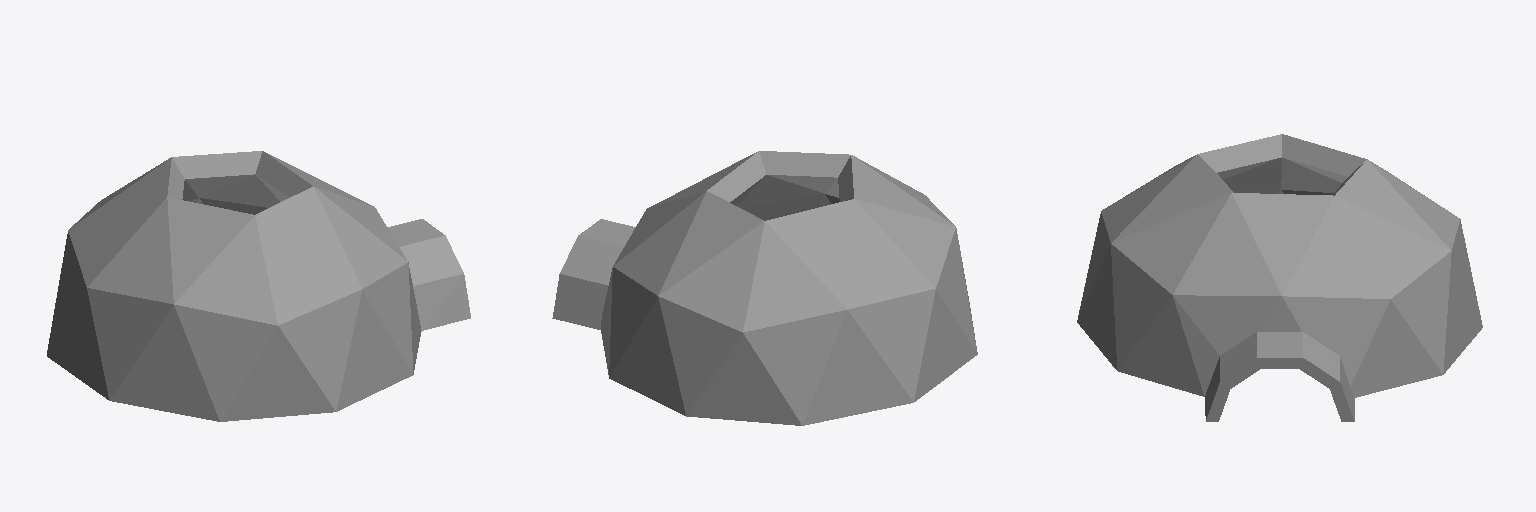
File: Igloo.obj
The picture shows the model from 3 angles: view 1: azimuth 30°, elevation 25°; view 2: azimuth 150°, elevation 25°; view 3: azimuth 270°, elevation 25°; orthographic projection.
Parts seen in each view (by area): view 1: Cylinder.000_Cylinder.005; view 2: Cylinder.000_Cylinder.005; view 3: Cylinder.000_Cylinder.005.
Part boxes in pixels (x1,y1,x2,y2): Cylinder.000_Cylinder.005: (47,151,470,421); Cylinder.000_Cylinder.005: (552,151,977,425); Cylinder.000_Cylinder.005: (1077,134,1482,421).
Bounding box in the file's own units: 1.49 × 0.6521 × 1.47.